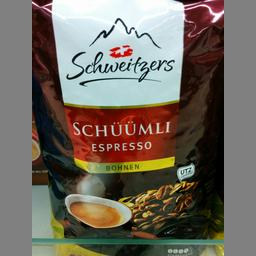coffee: (32, 0, 222, 253)
